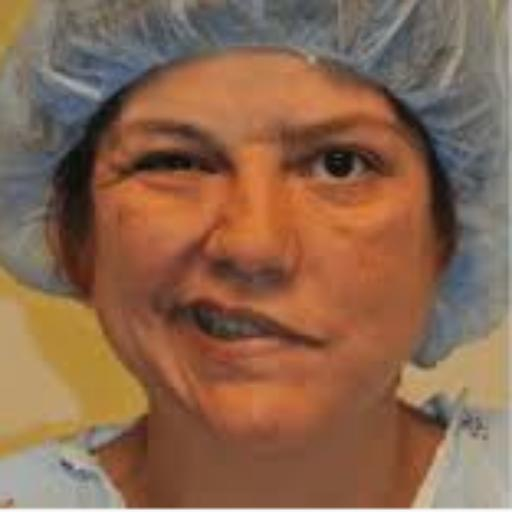left_eye: (293, 148, 385, 186)
left_lip_corner: (285, 314, 333, 363)
right_eye: (132, 152, 224, 180)
right_lip_corner: (150, 296, 193, 325)
